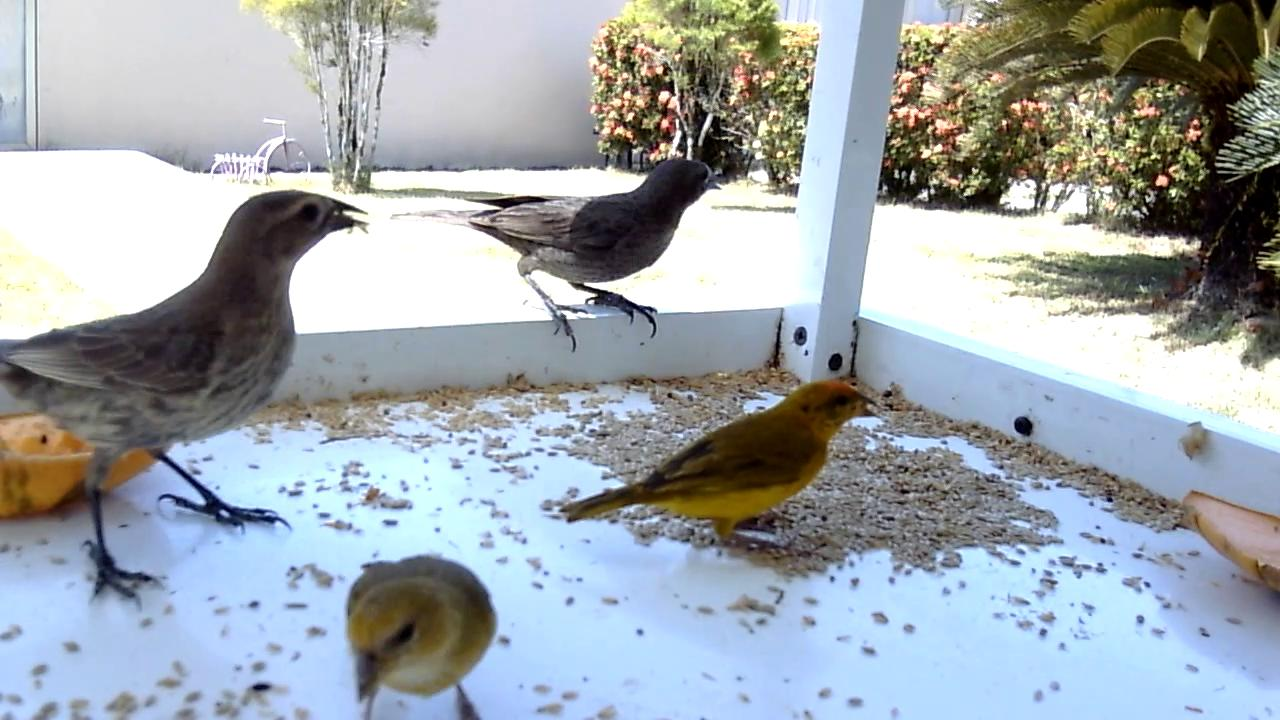canario_do_amazonas: (556, 377, 885, 556), (341, 550, 505, 720)
chupim: (1, 187, 374, 618), (388, 156, 725, 357)
